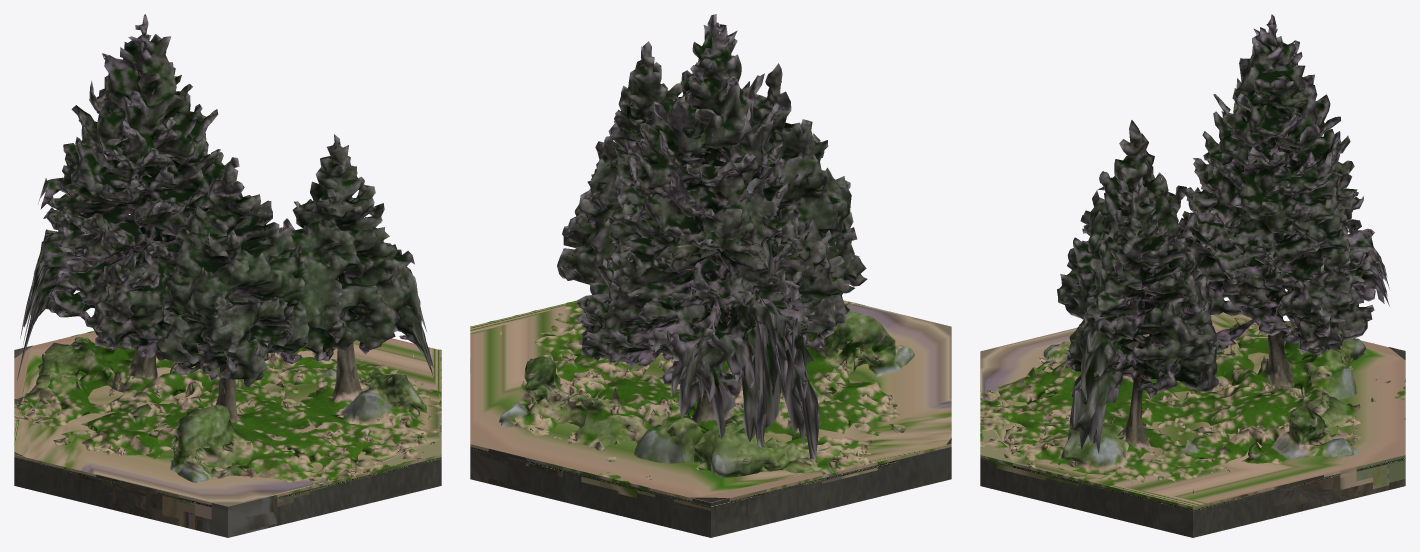
File: hex_meadow_building.glb
3 views of the same model, side by side, from view 1: azimuth 30°, elevation 25°; view 2: azimuth 150°, elevation 25°; view 3: azimuth 270°, elevation 25° (orthographic). The views are drawn at different scales.
Parts seen in each view (by area): view 1: hex_meadow_building_s7_fit; view 2: hex_meadow_building_s7_fit; view 3: hex_meadow_building_s7_fit.
Part boxes in pixels (x1,y1,x2,y2): hex_meadow_building_s7_fit: (14,14,441,537); hex_meadow_building_s7_fit: (470,14,951,537); hex_meadow_building_s7_fit: (980,14,1405,537).
Bounding box in the file's own units: 5.11 × 4.57 × 4.42.
1 material, 1 textured.
